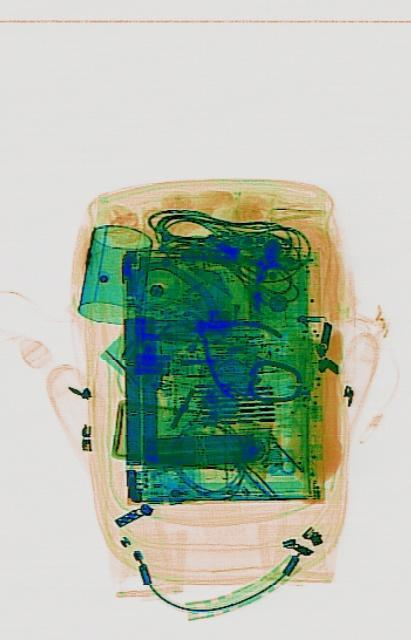Pliers: (165, 267, 282, 417)
